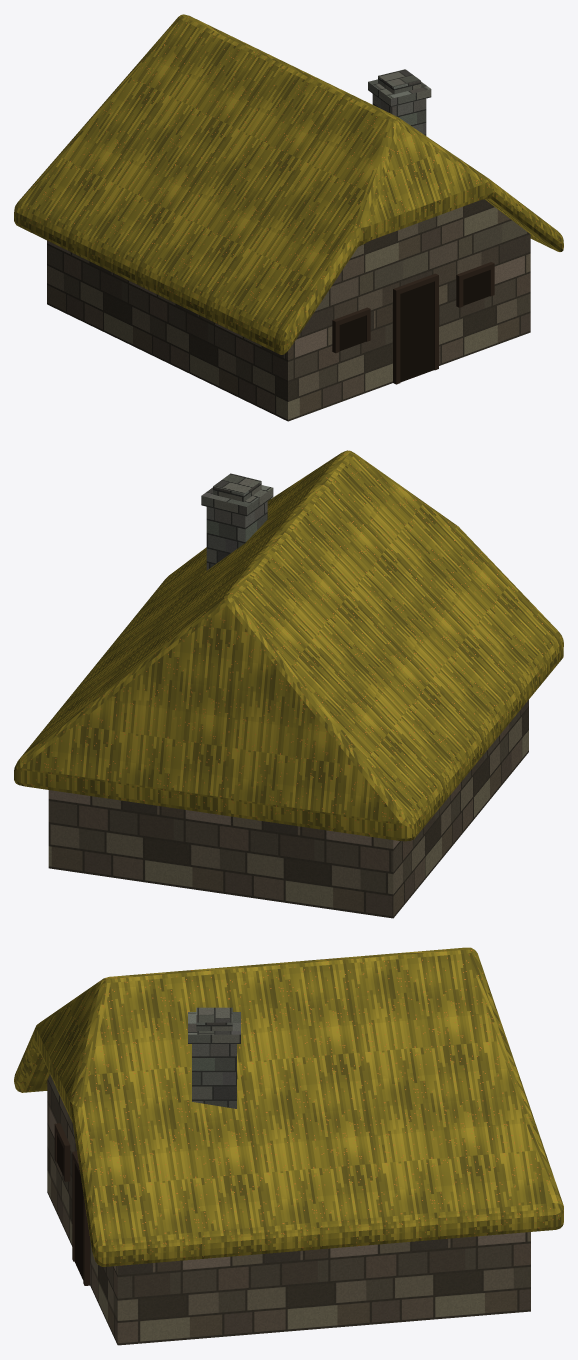
File: AraHut06.glb
3 views of the same model, one above another, from view 1: azimuth 30°, elevation 25°; view 2: azimuth 150°, elevation 25°; view 3: azimuth 270°, elevation 25° (orthographic). The views are drawn at different scales.
Parts seen in each view (by area): view 1: AraHut06_wall; view 2: AraHut06_wall; view 3: AraHut06_wall.
Boxes of the visible parts, x1=… form: AraHut06_wall: x1=14, y1=14, x2=563, y2=421; AraHut06_wall: x1=14, y1=450, x2=563, y2=918; AraHut06_wall: x1=14, y1=947, x2=563, y2=1345.
Bounding box in the file's own units: 6.77 × 4.24 × 7.32.
Materials: 5 (3 with a texture image).
